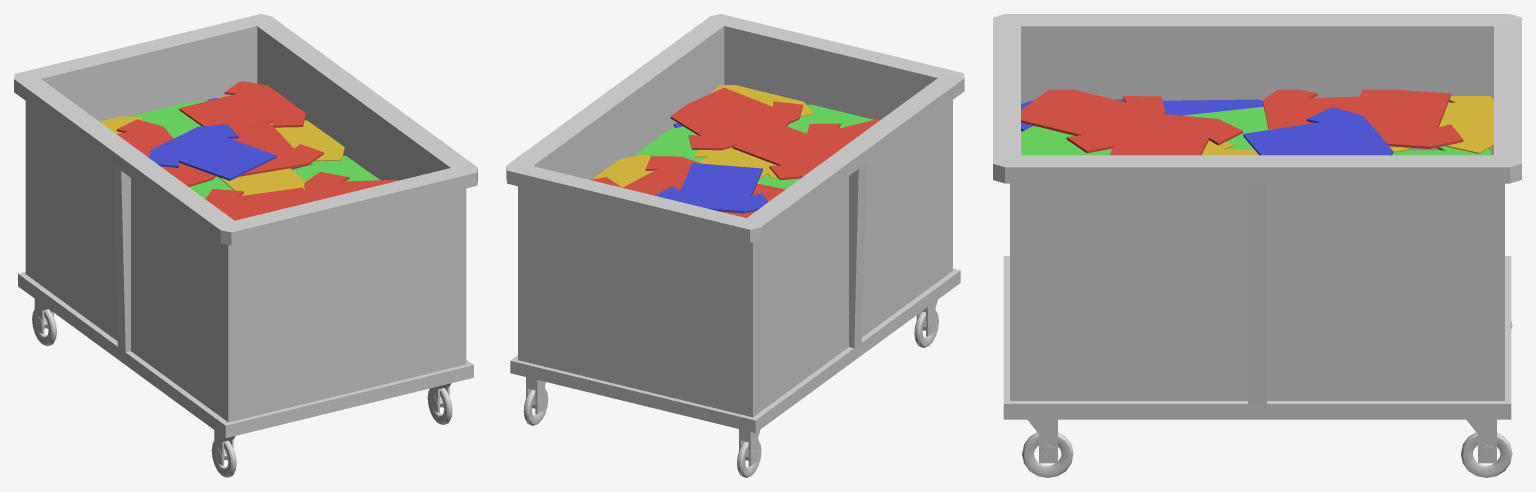
Rendered from WashingCart+Shirts.fbx.
The picture shows the model from 3 angles, left to right: view 1: azimuth 30°, elevation 25°; view 2: azimuth 150°, elevation 25°; view 3: azimuth 270°, elevation 25°; orthographic projection. The views are drawn at different scales.
Parts seen in each view (by area): view 1: Cart Main, ShirtPile, CartWheel02.001, CartWheel02.003, CartWheel02; view 2: Cart Main, ShirtPile, CartWheel02.003, CartWheel02.002, CartWheel02.001; view 3: Cart Main, ShirtPile, CartWheel02, CartWheel02.002.
Boxes of the visible parts, bbox=[...] form: Cart Main: bbox=[14, 14, 477, 438]; ShirtPile: bbox=[100, 81, 397, 220]; CartWheel02.001: bbox=[211, 430, 236, 477]; CartWheel02.003: bbox=[32, 299, 56, 346]; CartWheel02: bbox=[427, 383, 452, 425]; Cart Main: bbox=[506, 14, 964, 432]; ShirtPile: bbox=[591, 85, 883, 217]; CartWheel02.003: bbox=[737, 429, 761, 477]; CartWheel02.002: bbox=[523, 377, 548, 425]; CartWheel02.001: bbox=[914, 300, 938, 347]; Cart Main: bbox=[993, 14, 1521, 419]; ShirtPile: bbox=[1021, 89, 1493, 155]; CartWheel02: bbox=[1022, 419, 1073, 477]; CartWheel02.002: bbox=[1461, 419, 1512, 477].
Size of the model in its own units: 128 by 125 by 186.
